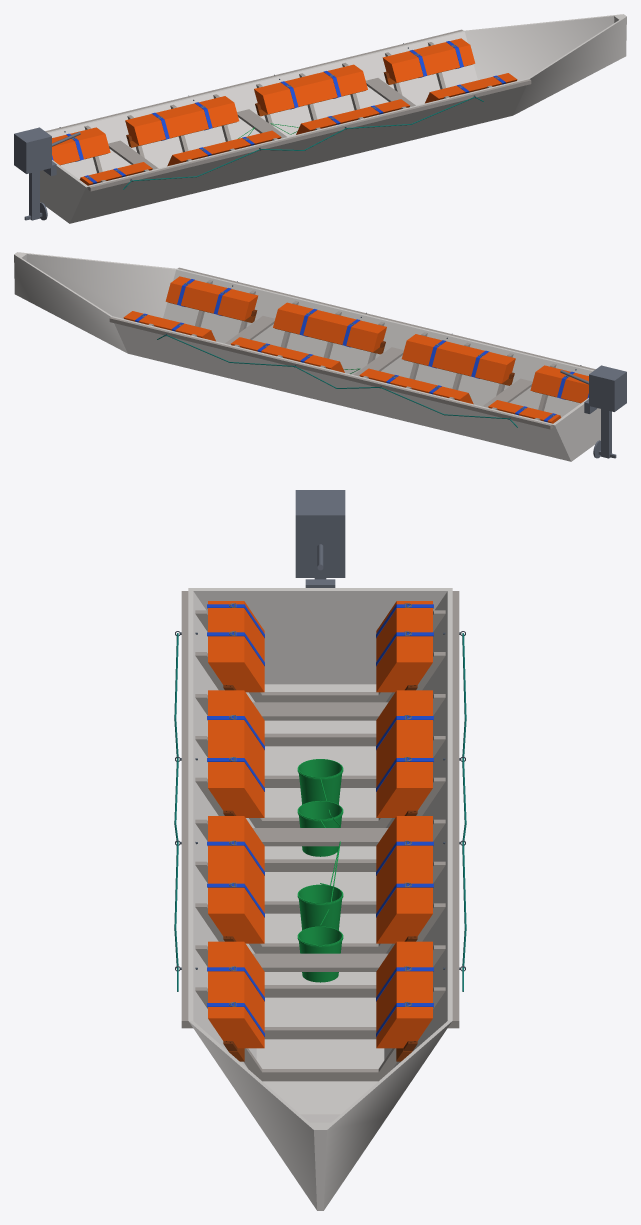
3 renders of one model, top to bottom at view 1: azimuth 30°, elevation 25°; view 2: azimuth 150°, elevation 25°; view 3: azimuth 270°, elevation 25°, orthographic. The views are drawn at different scales.
Visible parts, largest first — view 1: Reference canoe planking (owner's boat), Covers, Canoe frames, thwarts and rubbing strakes, 15 hp outboard motor (context), Hold-down straps, Grab lines, Shelf battens; view 2: Reference canoe planking (owner's boat), Covers, Canoe frames, thwarts and rubbing strakes, 15 hp outboard motor (context), Hold-down straps, Grab lines, Shelf battens; view 3: Reference canoe planking (owner's boat), Covers, Canoe frames, thwarts and rubbing strakes, Bailers, 15 hp outboard motor (context), Hold-down straps, Grab lines.
Part boxes in pixels (bbox=[...]): Reference canoe planking (owner's boat): bbox=[40, 14, 626, 223]; Covers: bbox=[52, 38, 517, 185]; Canoe frames, thwarts and rubbing strakes: bbox=[45, 29, 531, 191]; 15 hp outboard motor (context): bbox=[14, 127, 80, 220]; Hold-down straps: bbox=[52, 41, 505, 184]; Grab lines: bbox=[123, 96, 483, 189]; Shelf battens: bbox=[60, 64, 472, 165]; Reference canoe planking (owner's boat): bbox=[14, 252, 600, 461]; Covers: bbox=[123, 276, 588, 423]; Canoe frames, thwarts and rubbing strakes: bbox=[109, 267, 595, 429]; 15 hp outboard motor (context): bbox=[560, 365, 626, 458]; Hold-down straps: bbox=[135, 279, 588, 422]; Grab lines: bbox=[157, 334, 517, 427]; Shelf battens: bbox=[168, 302, 580, 403]; Reference canoe planking (owner's boat): bbox=[188, 588, 452, 1210]; Covers: bbox=[208, 601, 432, 1048]; Canoe frames, thwarts and rubbing strakes: bbox=[181, 591, 459, 1081]; Bailers: bbox=[297, 759, 343, 982]; 15 hp outboard motor (context): bbox=[295, 490, 345, 587]; Hold-down straps: bbox=[207, 604, 433, 1036]; Grab lines: bbox=[174, 633, 466, 991].
Bounding box in the file's own units: 8.46 × 1.16 × 1.77.
